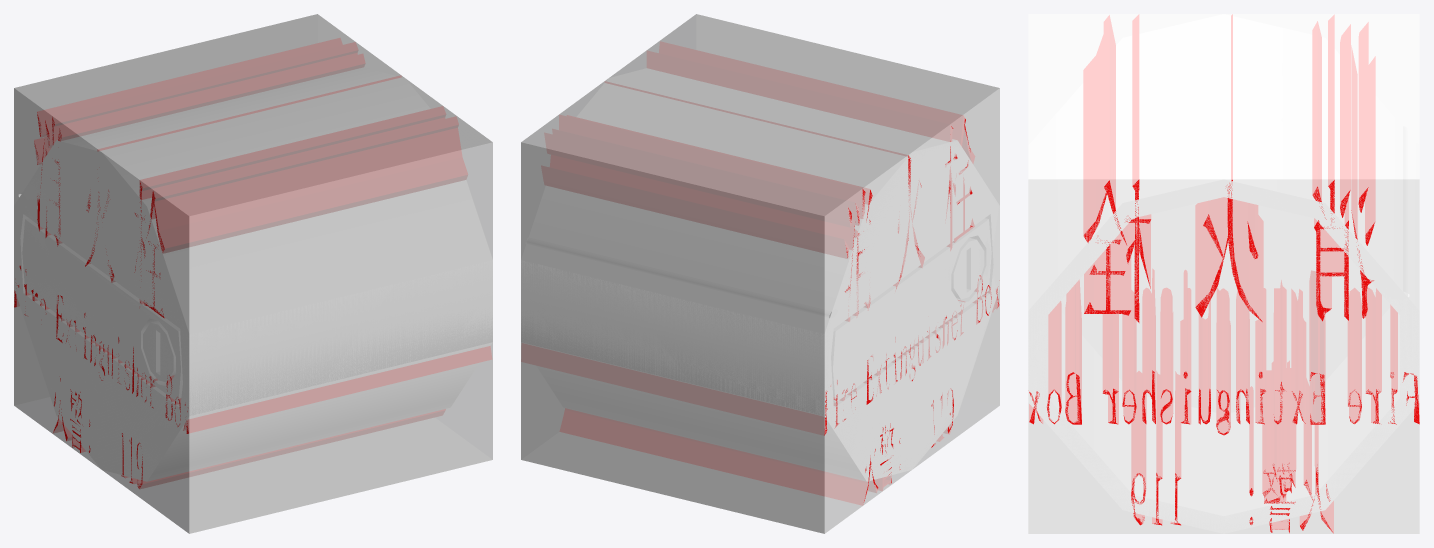
3 views of the same model, side by side, from view 1: azimuth 30°, elevation 25°; view 2: azimuth 150°, elevation 25°; view 3: azimuth 270°, elevation 25° (orthographic). The views are drawn at different scales.
Bounding box in the file's own units: 65535 × 65535 × 65535.
